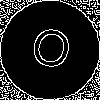O: (25, 25, 75, 80)
